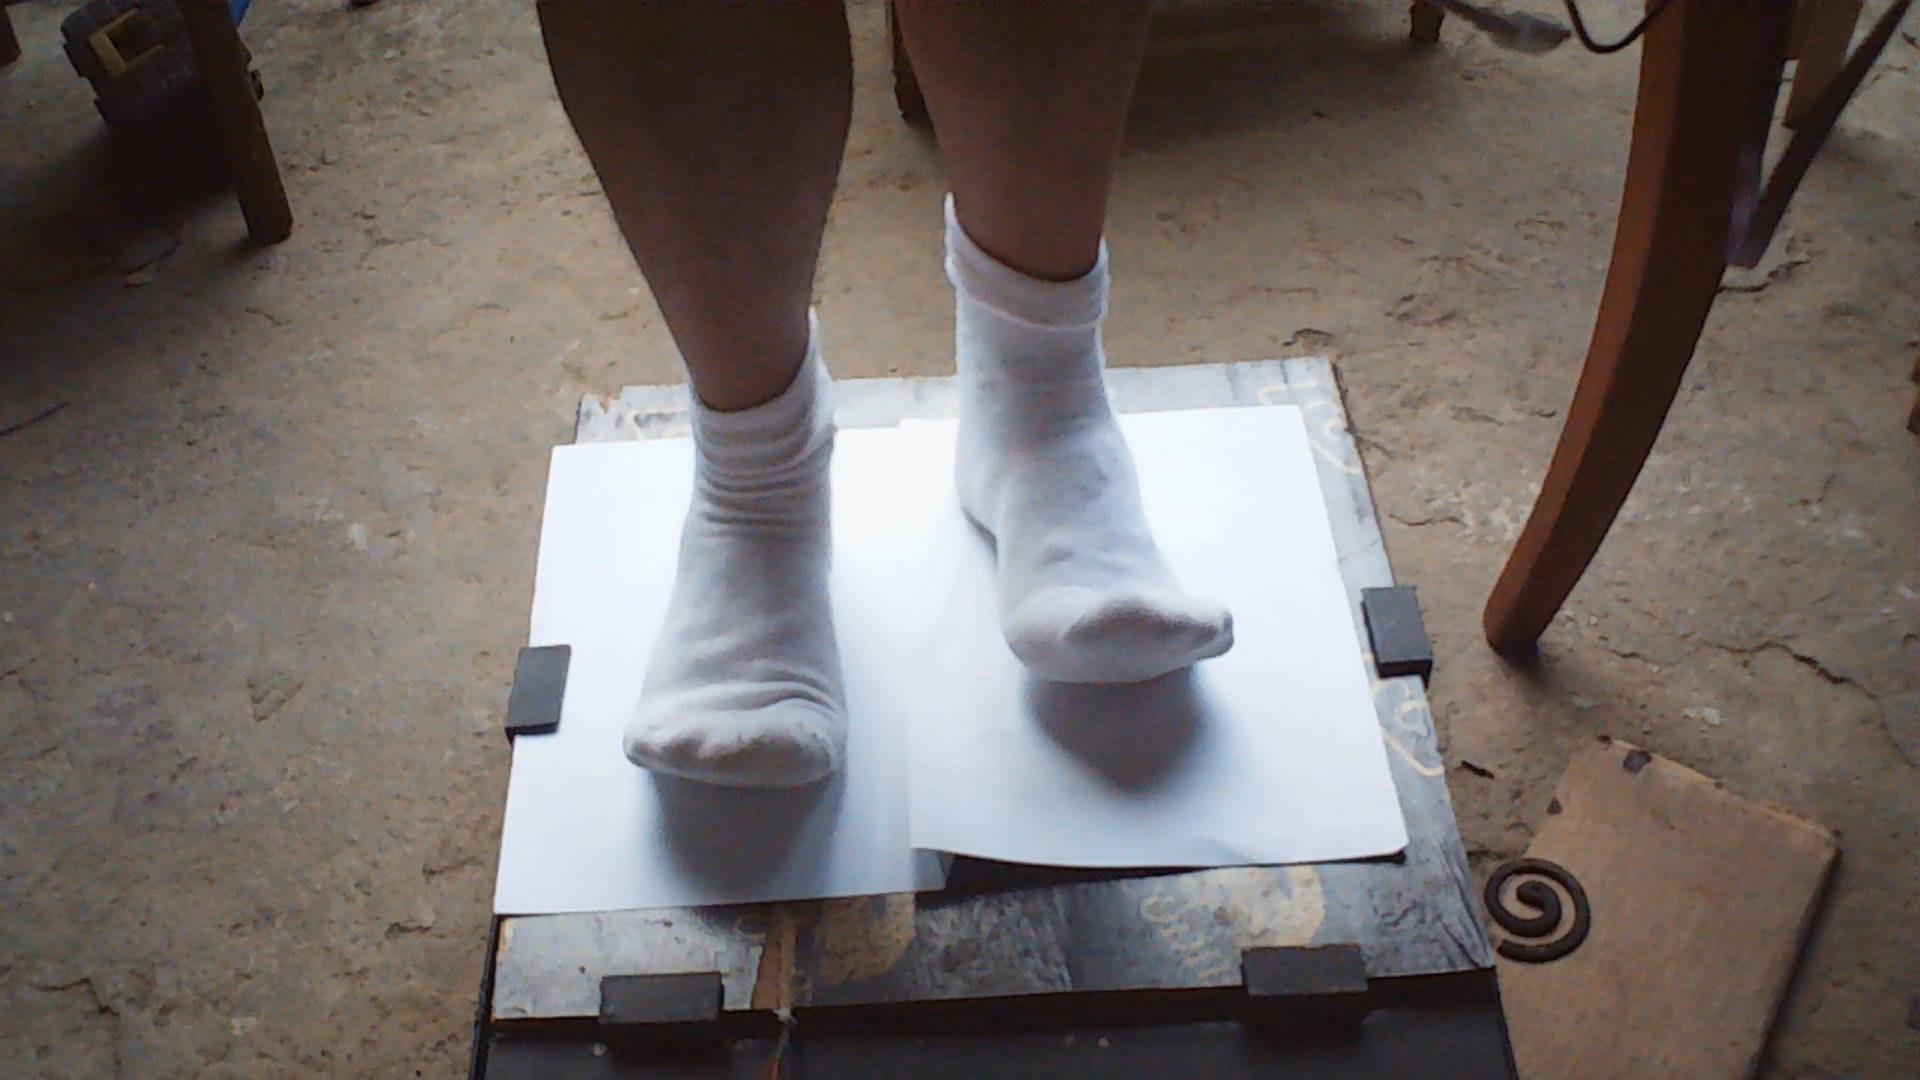white_socks: (893, 162, 1270, 748), (588, 265, 907, 860)
